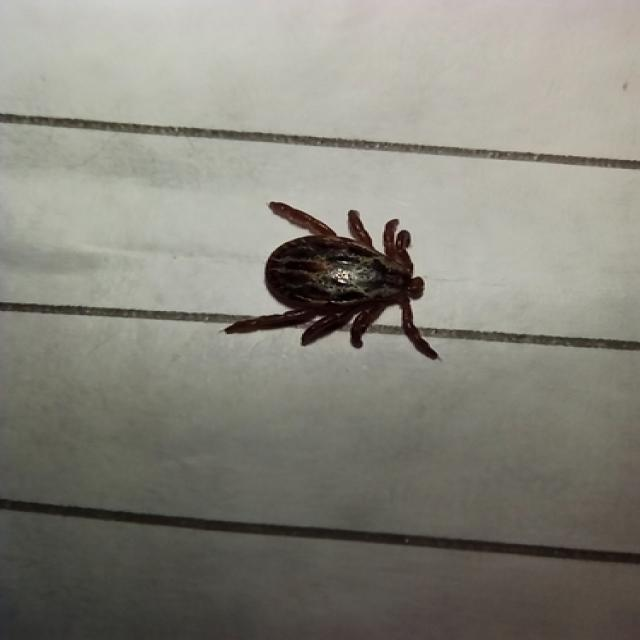Dermacentor Reticulatus-M: (224, 202, 440, 362)
